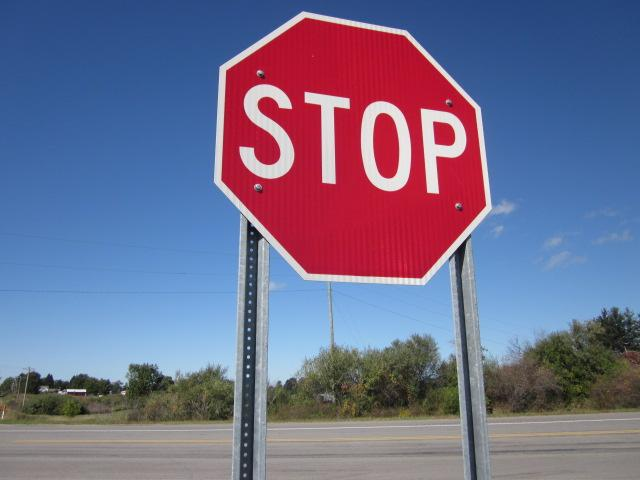stop: (203, 6, 500, 289)
